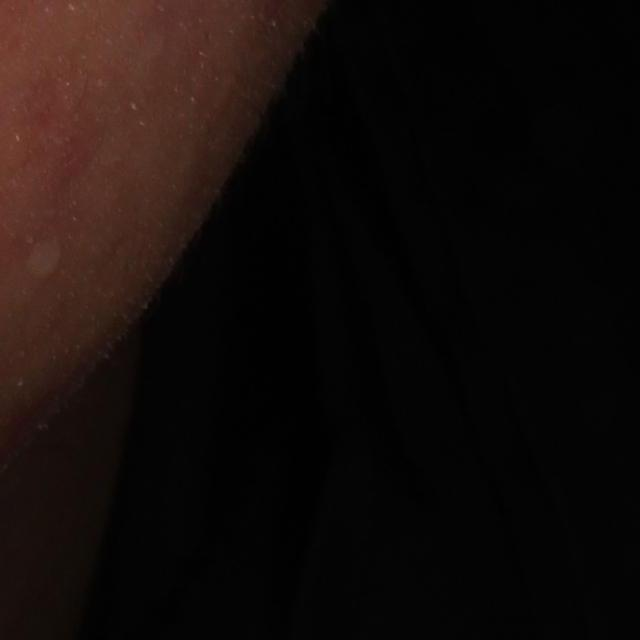other: (20, 232, 69, 287)
